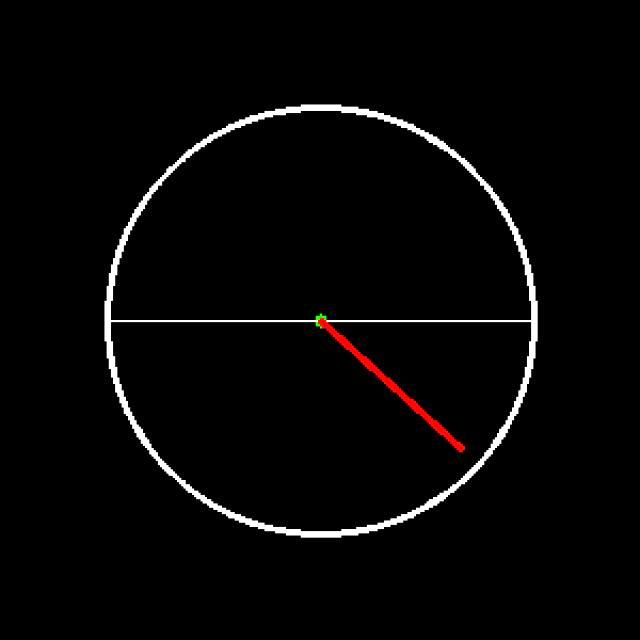Needle_Tip: (426, 419, 482, 459)
Needle_base: (303, 300, 347, 362)
